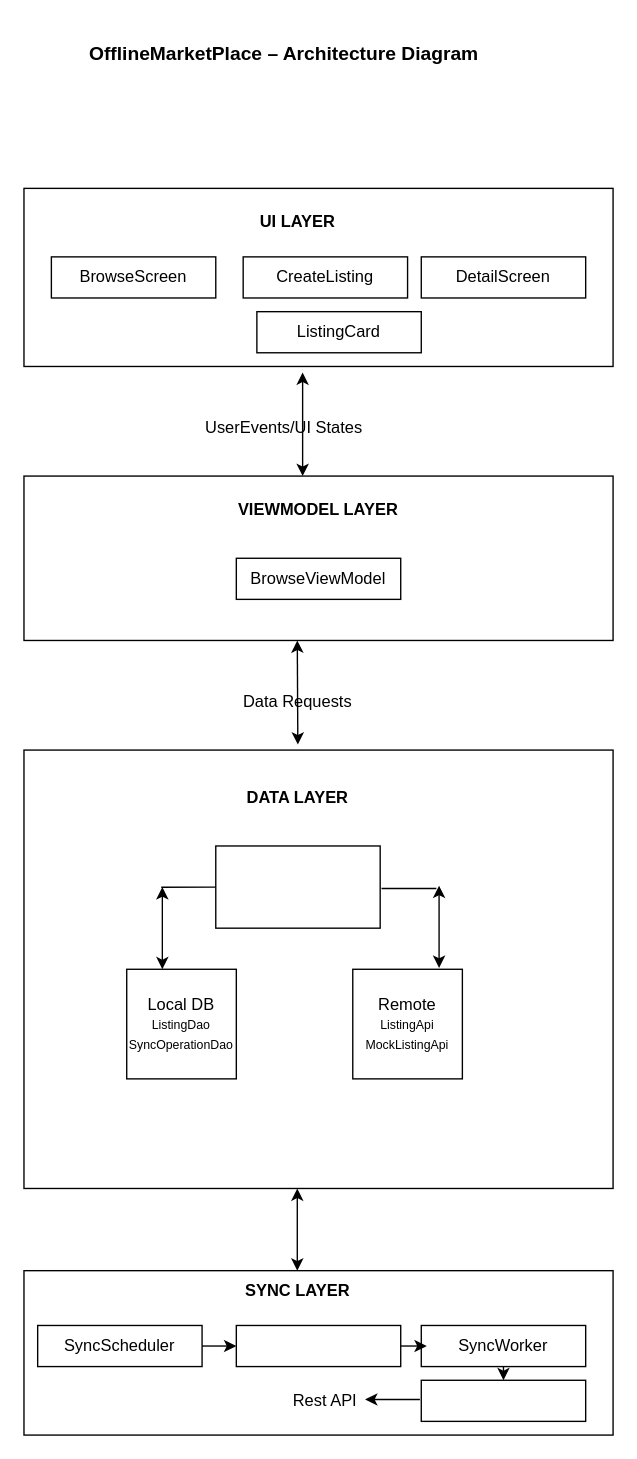
This 637x1459 diagram has some shape labels left out. Here are the shapes that lost their labels. From the top down, the box of each, then its label:
(214, 845, 380, 928): REPOSITORY ListingRepository
(235, 1324, 401, 1367): WorkManager
(420, 1379, 586, 1421): Sync Manager
